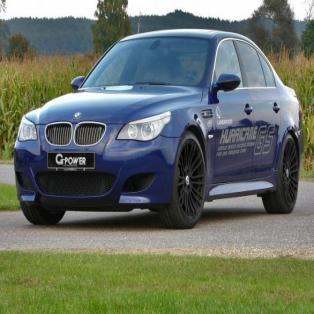Auto: (14, 28, 305, 228)
